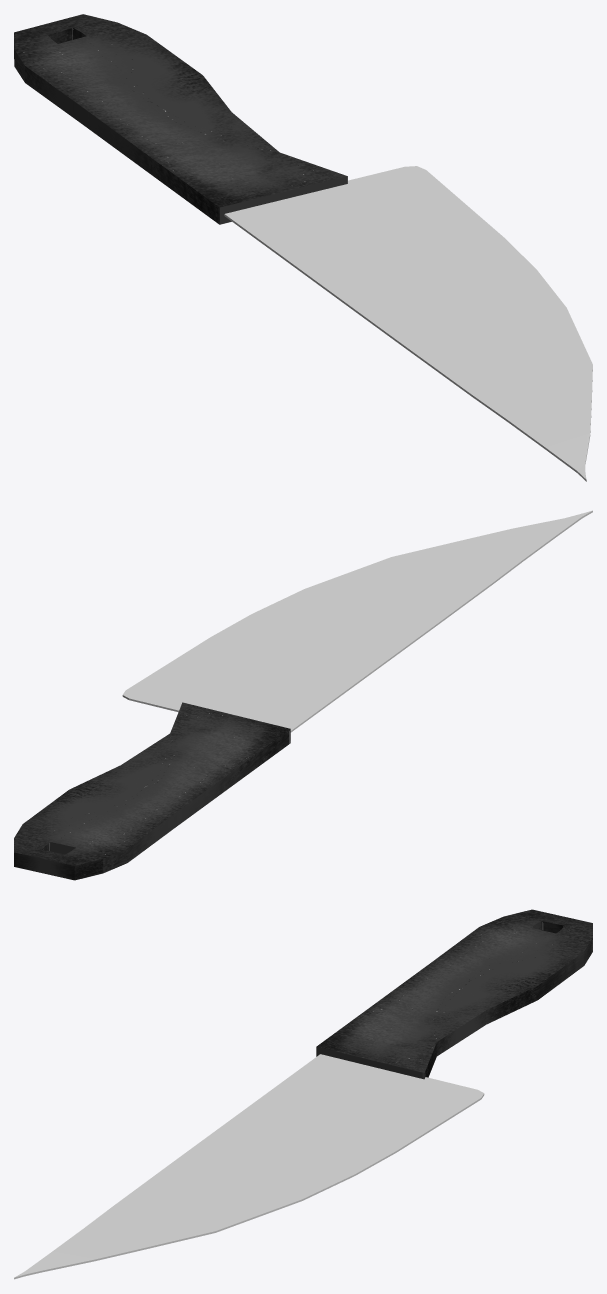
The model's file is cuchillo.fbx.
3 renders of one model, top to bottom at view 1: azimuth 30°, elevation 25°; view 2: azimuth 150°, elevation 25°; view 3: azimuth 330°, elevation 25°, orthographic. The views are drawn at different scales.
Parts seen in each view (by area): view 1: filo, mango; view 2: filo, mango; view 3: filo, mango.
Boxes of the visible parts, x1=… form: filo: x1=224, y1=166, x2=592, y2=481; mango: x1=14, y1=14, x2=347, y2=224; filo: x1=122, y1=510, x2=592, y2=732; mango: x1=14, y1=702, x2=290, y2=880; filo: x1=14, y1=1054, x2=484, y2=1279; mango: x1=316, y1=909, x2=592, y2=1079.
Bounding box in the file's own units: 103 × 8.42 × 529.
2 materials, 1 textured.
